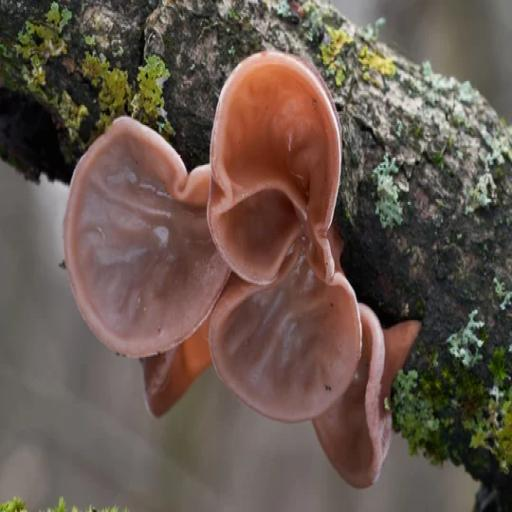mushroom: (62, 126, 232, 356), (207, 52, 342, 293), (210, 248, 362, 423), (312, 299, 425, 487), (146, 291, 232, 427)
